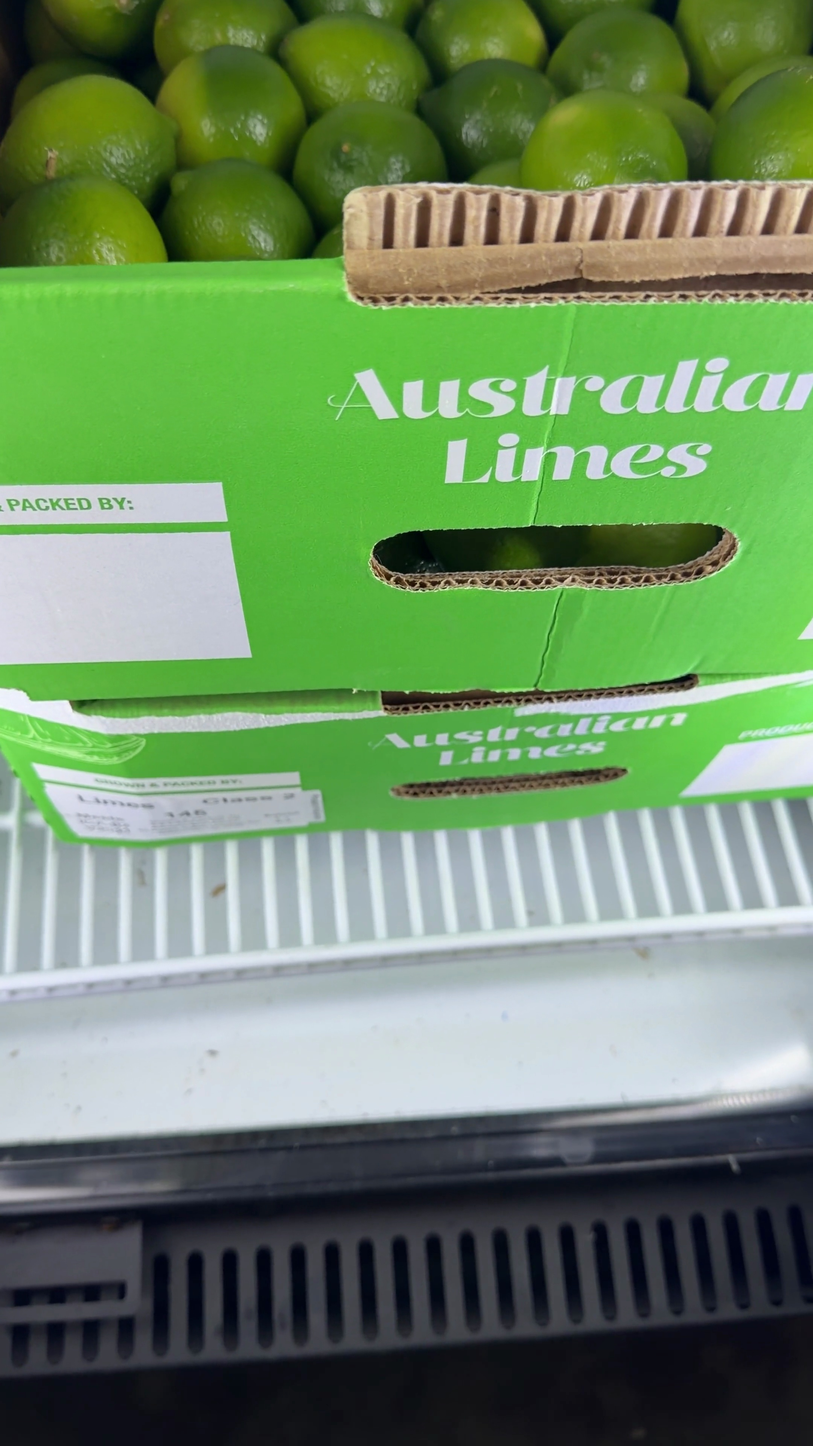lime: (0, 75, 175, 209), (294, 101, 446, 230), (156, 46, 305, 172), (419, 59, 559, 179), (521, 90, 687, 191), (280, 14, 430, 119), (159, 159, 313, 261), (0, 176, 166, 266), (675, 0, 813, 104), (547, 7, 688, 95), (710, 66, 813, 181), (154, 0, 296, 74), (416, 0, 547, 80), (423, 526, 586, 571), (711, 56, 813, 123), (43, 0, 158, 59), (11, 56, 119, 118), (646, 93, 716, 180), (579, 524, 719, 567), (529, 0, 655, 41), (294, 0, 423, 29), (23, 0, 79, 64), (469, 157, 521, 188), (128, 60, 164, 102), (312, 223, 343, 259)
